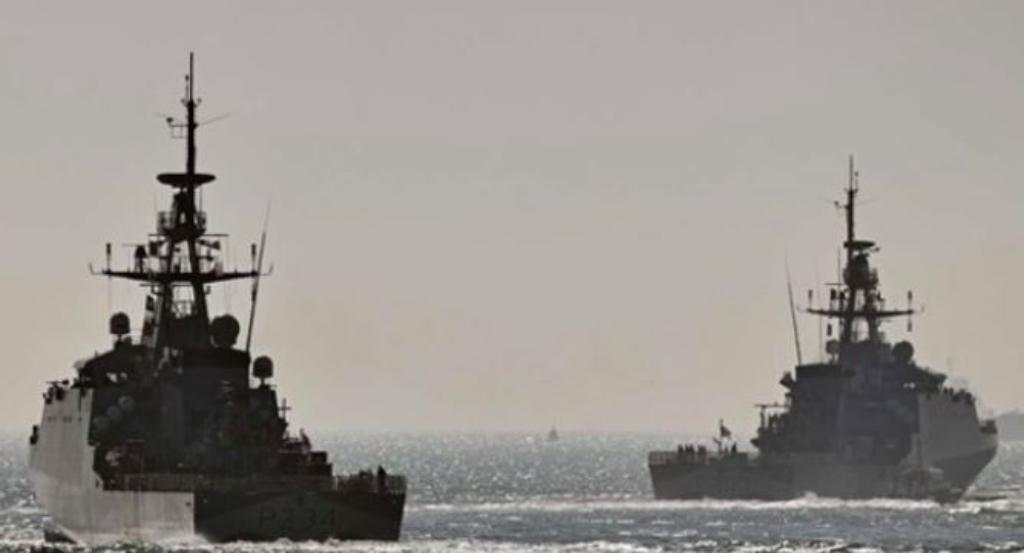Warship: (26, 47, 414, 545), (650, 146, 1004, 504)
